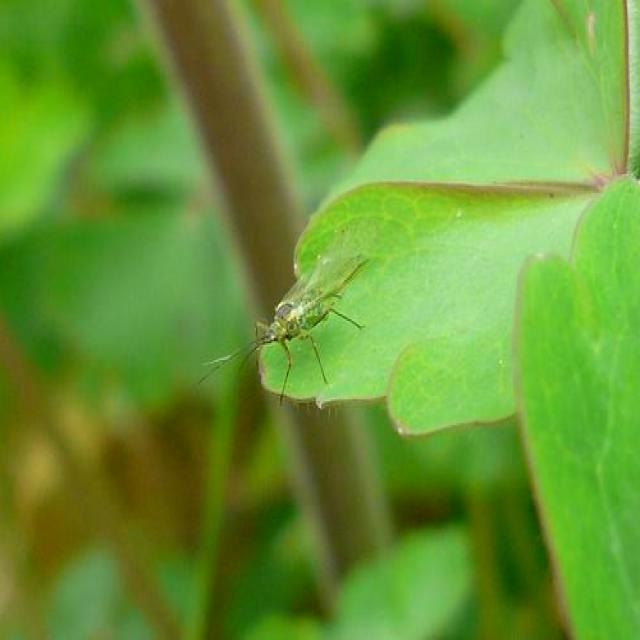aphid: (200, 230, 372, 410)
